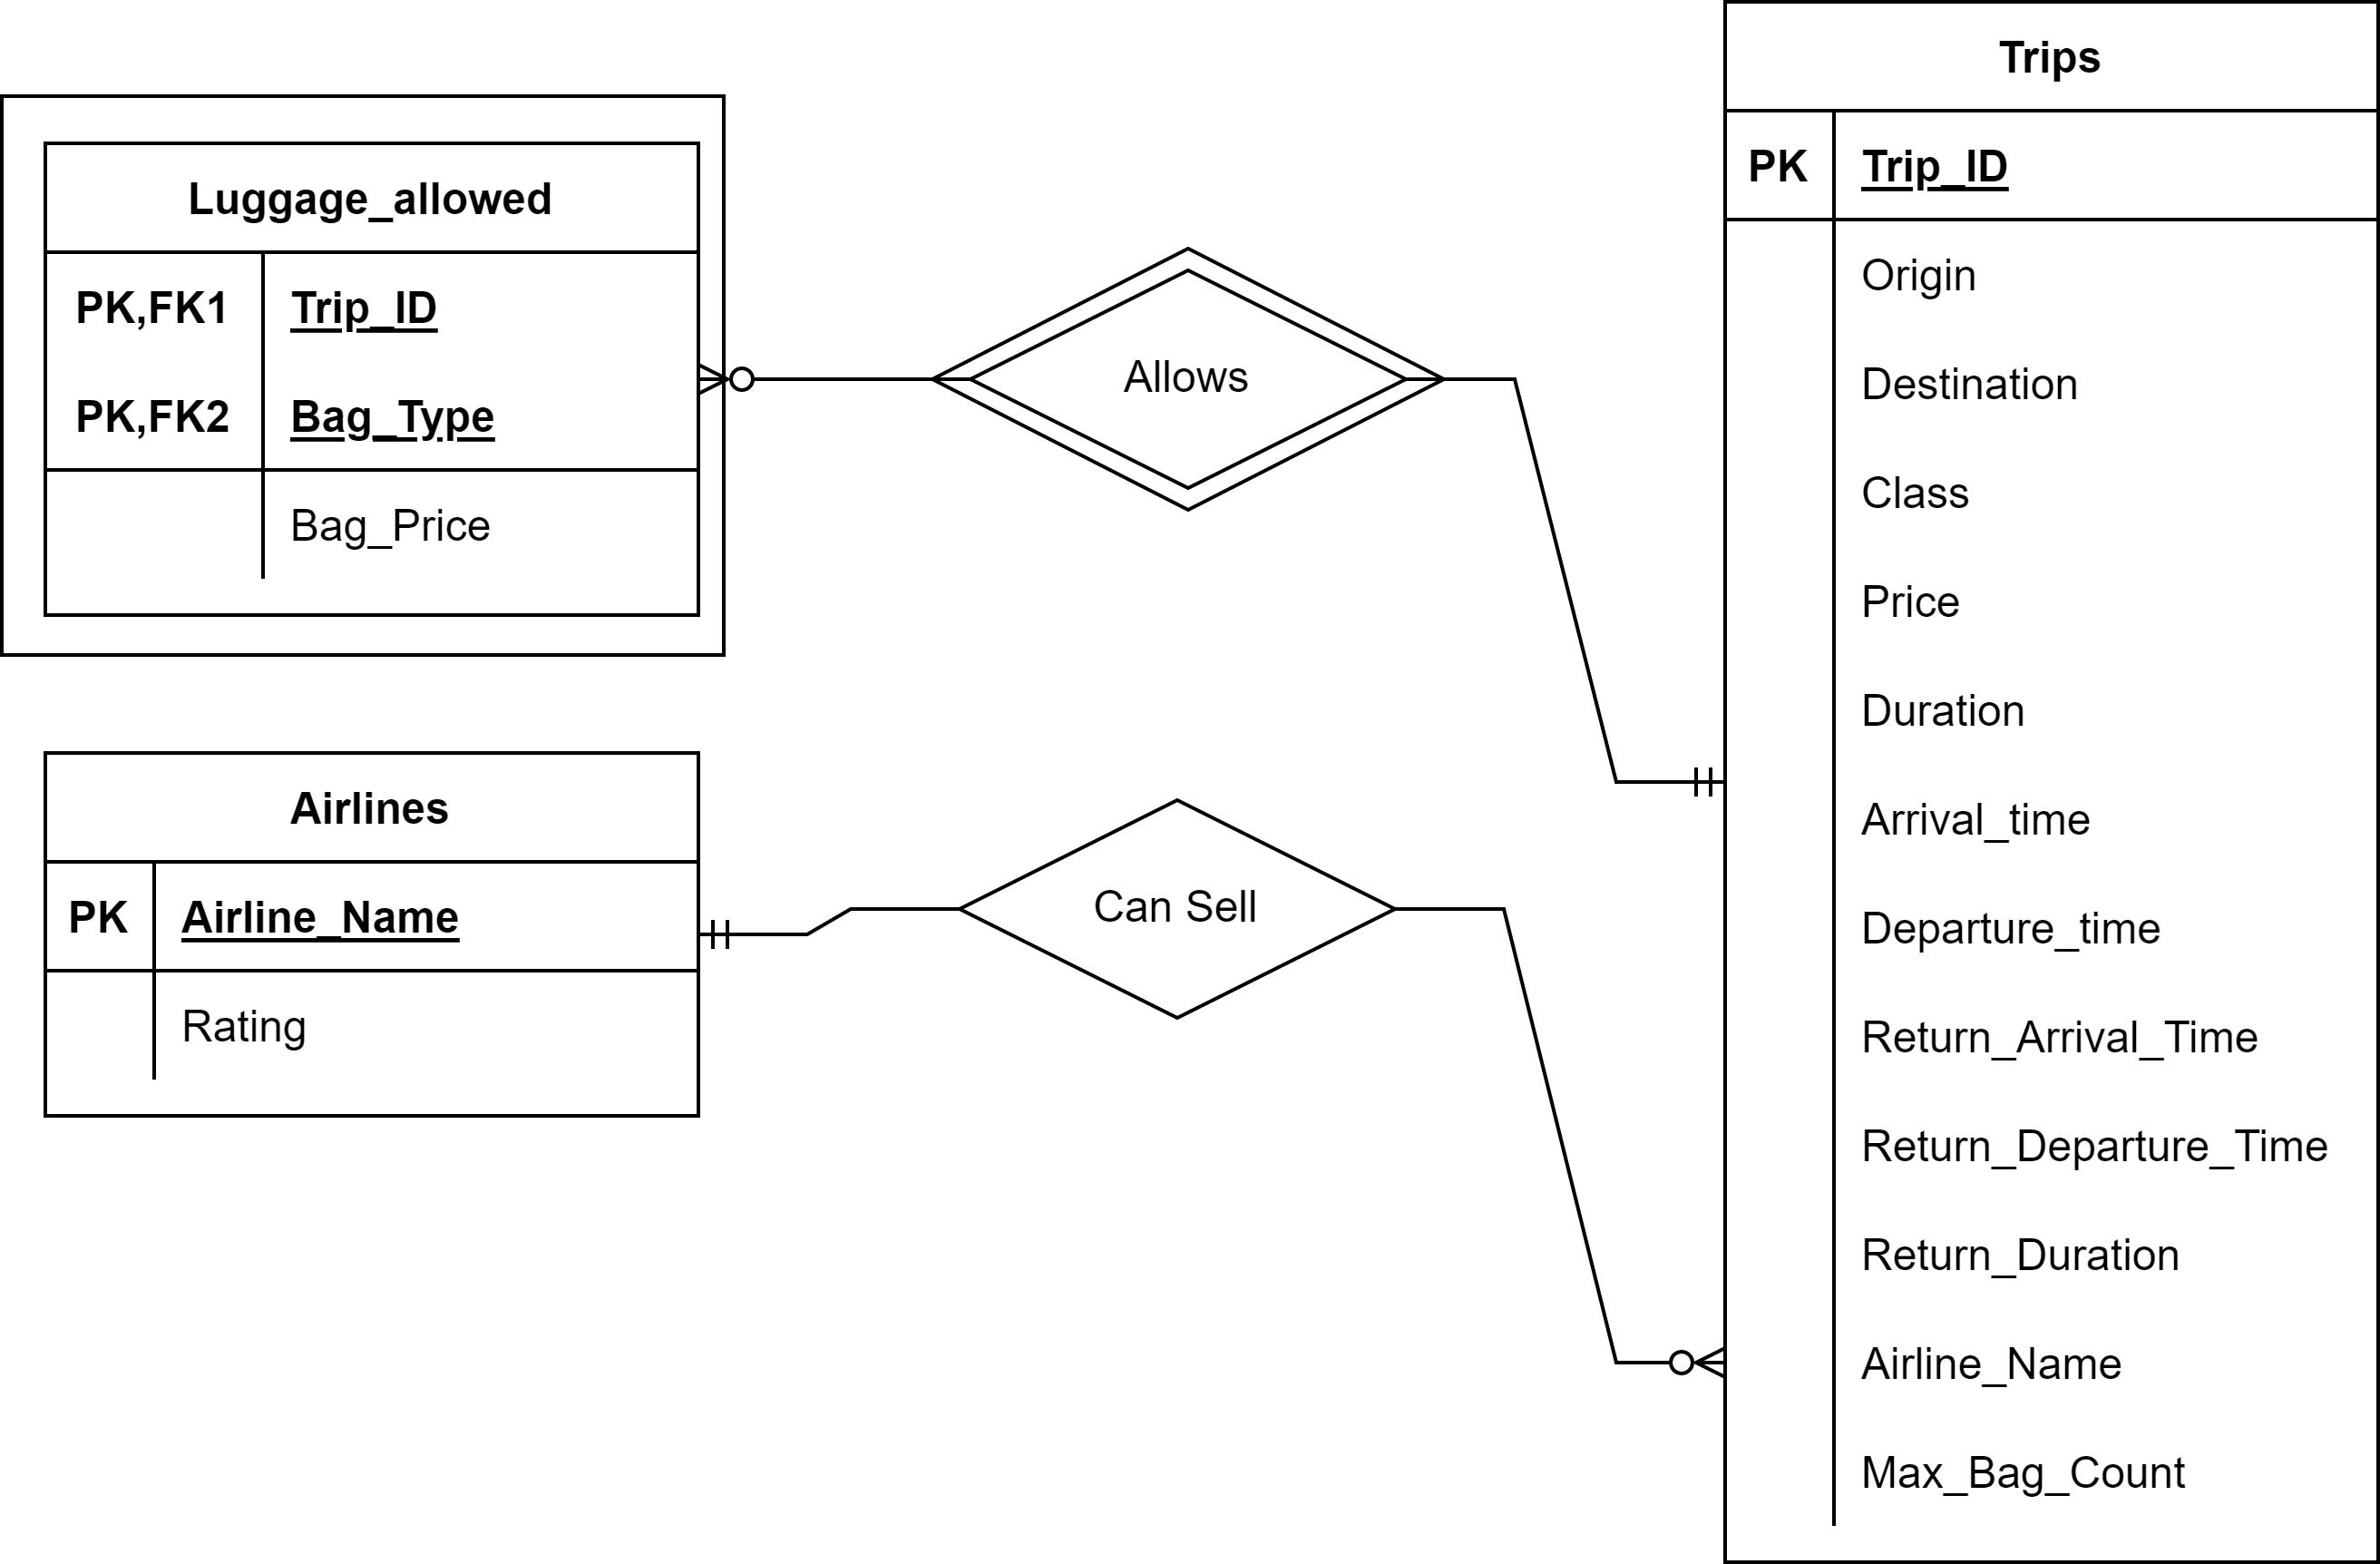entity: (1720, 2, 2380, 1564), (40, 751, 701, 1117)
relationship: (956, 796, 1398, 1019)
weakentity: (2, 87, 728, 662)
weakrelationship: (937, 246, 1446, 513)
